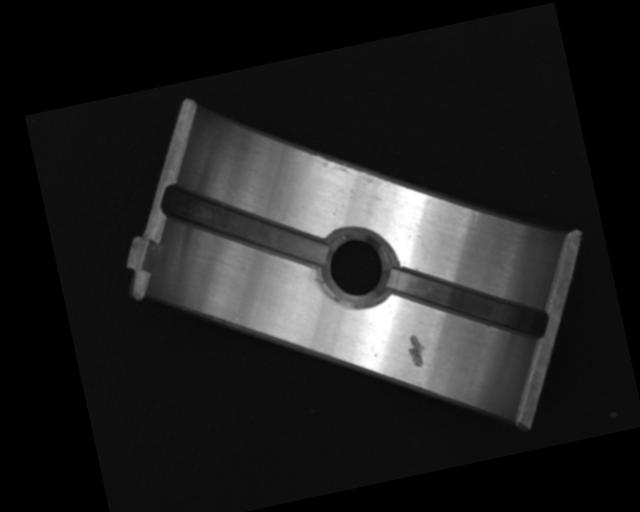bruise: (404, 332, 429, 370)
gap: (160, 157, 329, 296), (386, 241, 550, 368)
hole: (316, 224, 398, 316)
